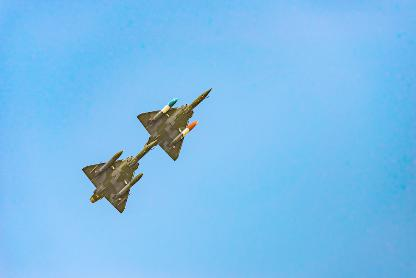Mirage2000: (81, 138, 158, 213), (136, 87, 214, 161)
